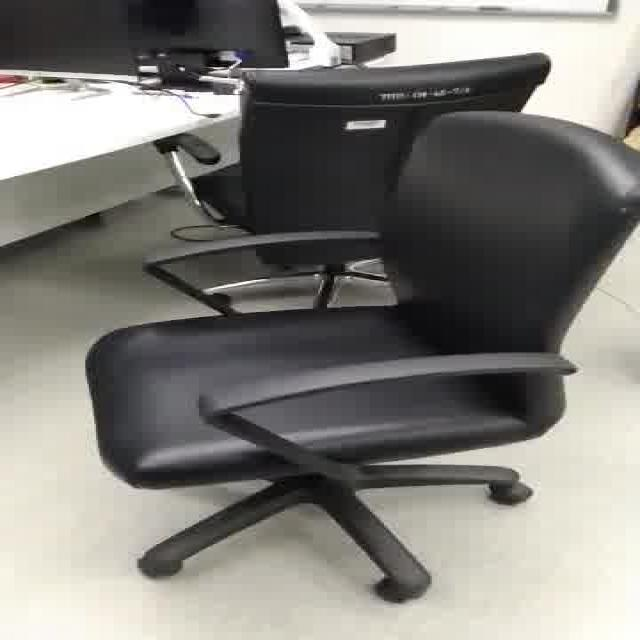chair: (82, 89, 638, 617)
